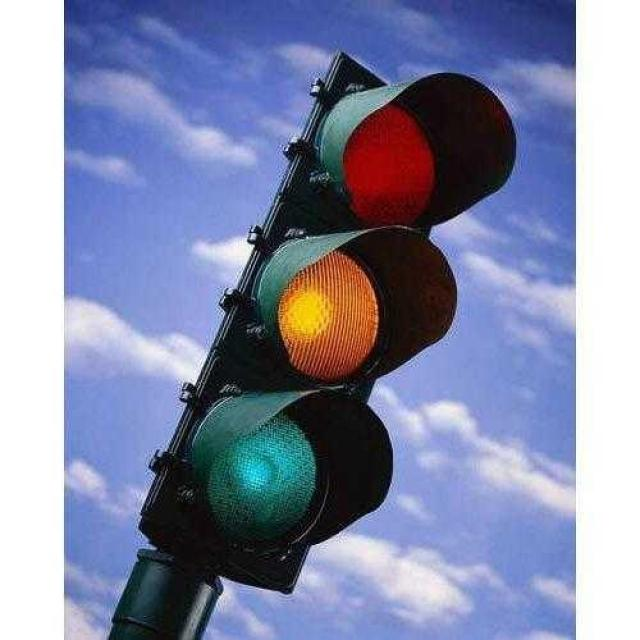Traffic Light -Green-: (167, 38, 514, 579)
Traffic Light -Yellow-: (196, 224, 457, 387)
